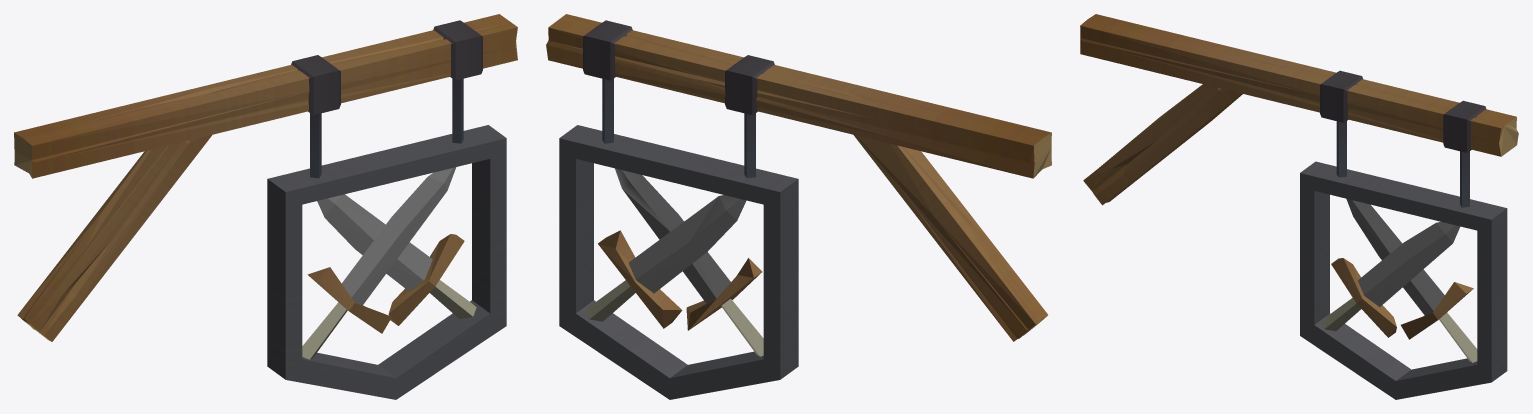
Rendered from SignBoard_3.fbx.
The picture shows the model from 3 angles, left to right: view 1: azimuth 30°, elevation 25°; view 2: azimuth 150°, elevation 25°; view 3: azimuth 330°, elevation 25°; orthographic projection. The views are drawn at different scales.
Parts seen in each view (by area): view 1: polySurface10643; view 2: polySurface10643; view 3: polySurface10643.
Part boxes in pixels (box(x1,y1,x2,y2)): polySurface10643: box(14, 14, 517, 399); polySurface10643: box(546, 14, 1051, 399); polySurface10643: box(1080, 14, 1518, 399).
Size of the model in its own units: 309 by 209 by 23.29.
